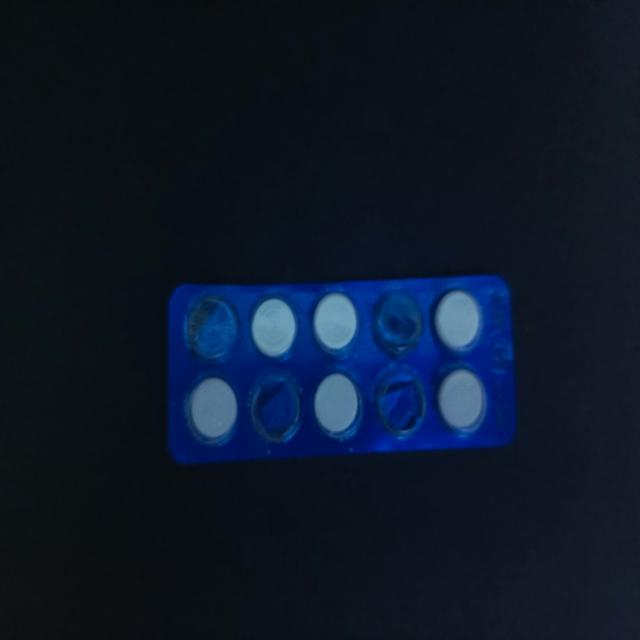defect: (182, 291, 242, 370), (248, 368, 308, 445), (374, 362, 429, 439), (369, 287, 426, 360)
